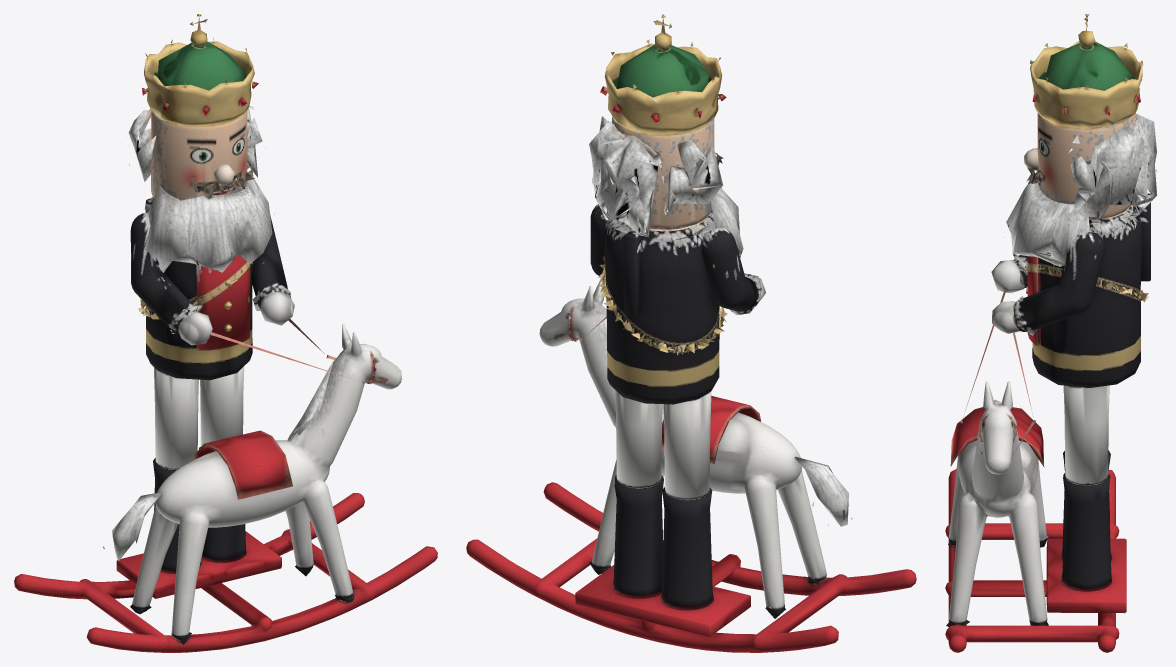
Rendered from cascanueces_rey.glb.
The picture shows the model from 3 angles, left to right: view 1: azimuth 30°, elevation 25°; view 2: azimuth 150°, elevation 25°; view 3: azimuth 270°, elevation 25°; orthographic projection. The views are drawn at different scales.
Parts seen in each view (by area): view 1: LOW_Cascanueces_Rey; view 2: LOW_Cascanueces_Rey; view 3: LOW_Cascanueces_Rey.
Part boxes in pixels (box(x1,y1,x2,y2)): LOW_Cascanueces_Rey: box(14, 14, 437, 652); LOW_Cascanueces_Rey: box(466, 14, 916, 652); LOW_Cascanueces_Rey: box(945, 14, 1157, 652).
Size of the model in its own units: 0.2431 by 0.3866 by 0.1279.
Materials: 1 (1 with a texture image).
